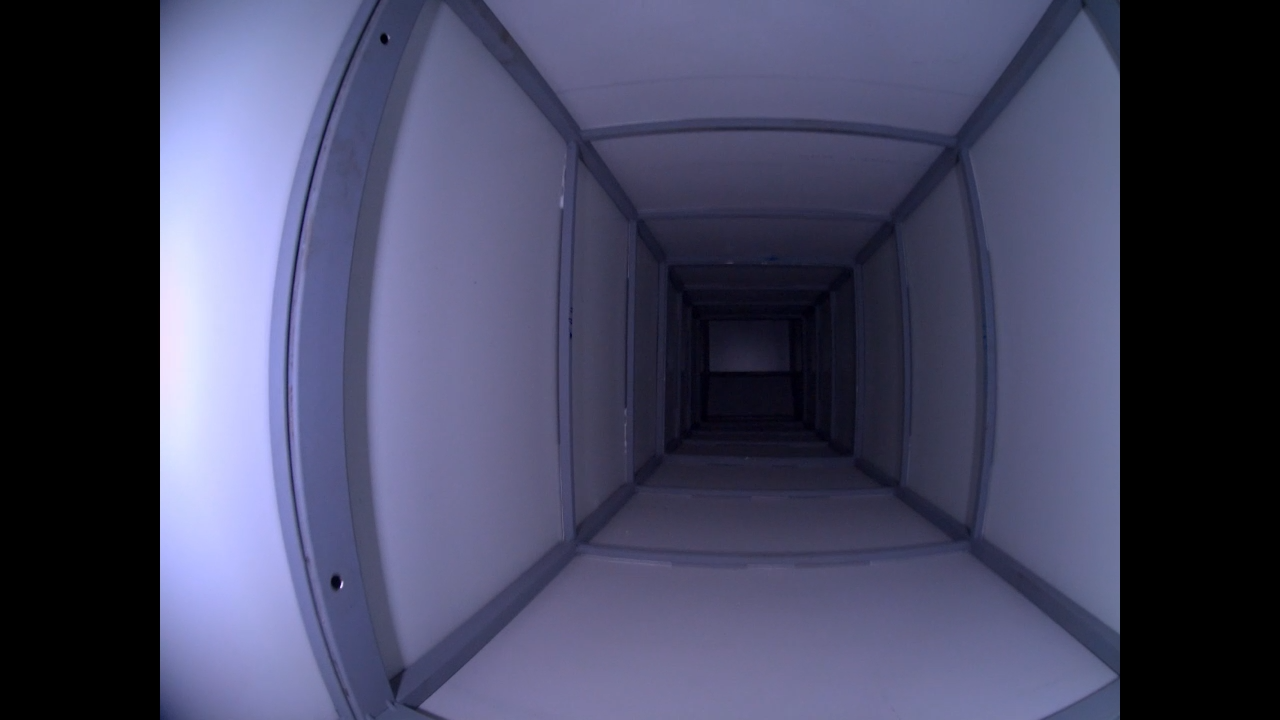divider: (545, 107, 1003, 577)
